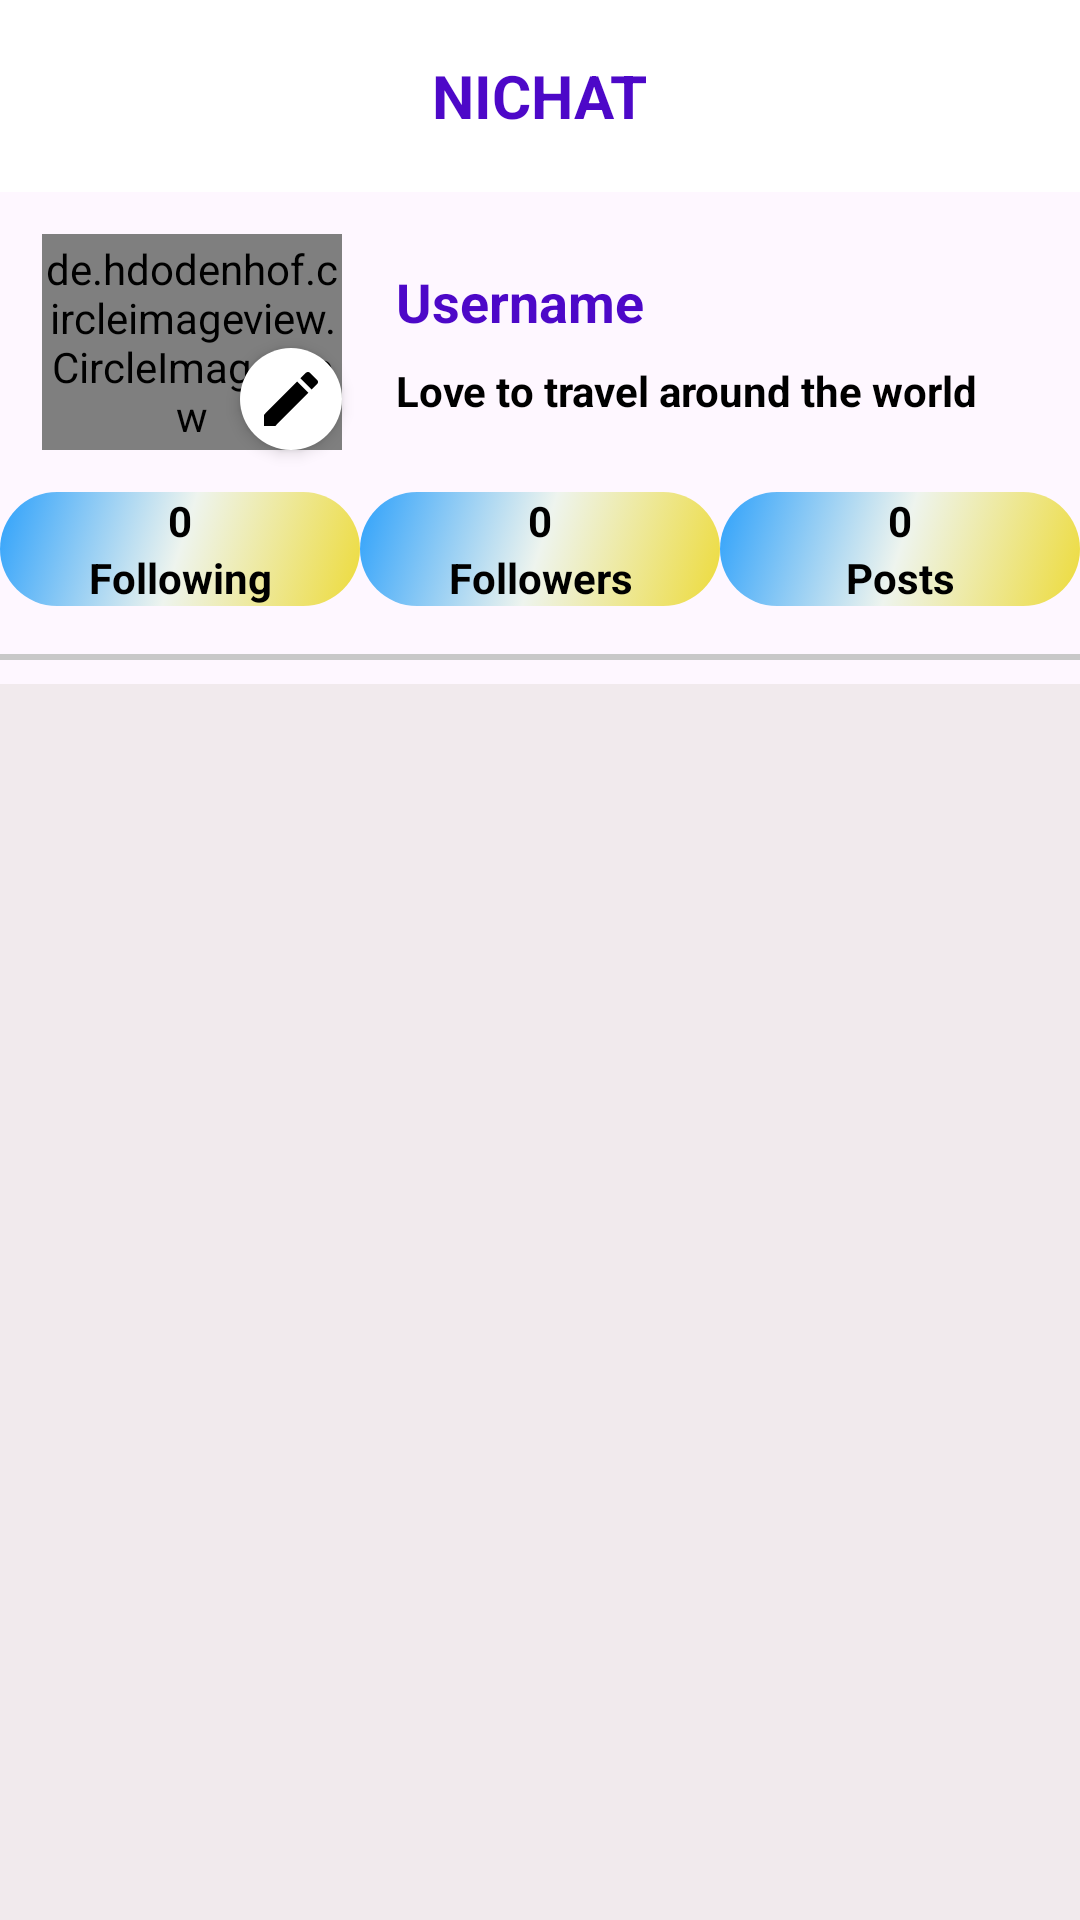

Screen size 1080×1920. Icon name, then its center in pixels as [x,y]:
edit: [291,399]
